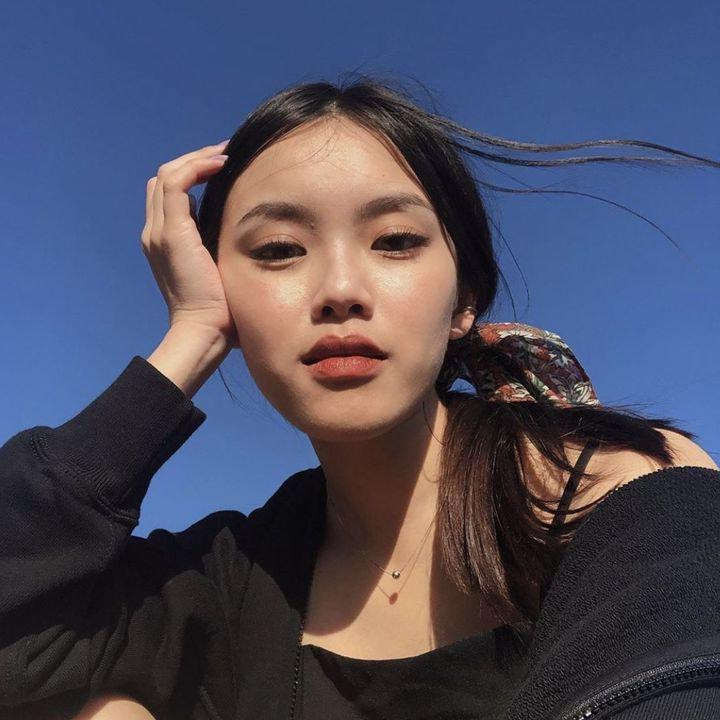Sober: (231, 152, 441, 419)
